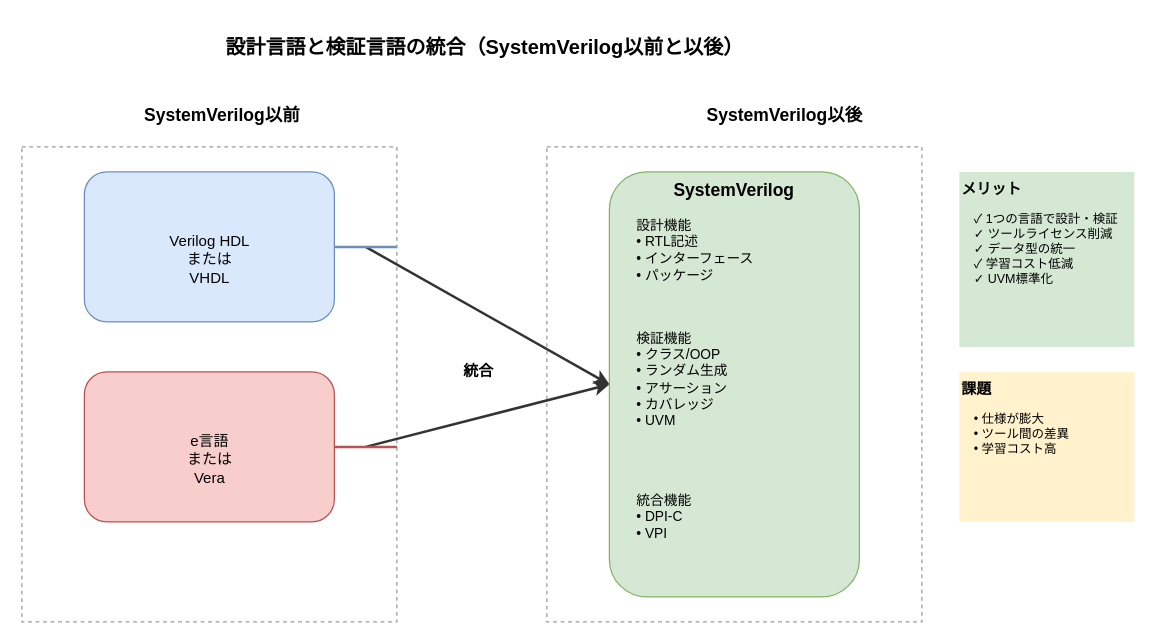
The diagram is 1156 pixels wide and 644 high, and some of its shapes have lost their labels. Here are the shapes that lost their labels. From the top down, the box of each, then its label:
(83, 171, 334, 322): 設計
(83, 371, 334, 522): 検証
